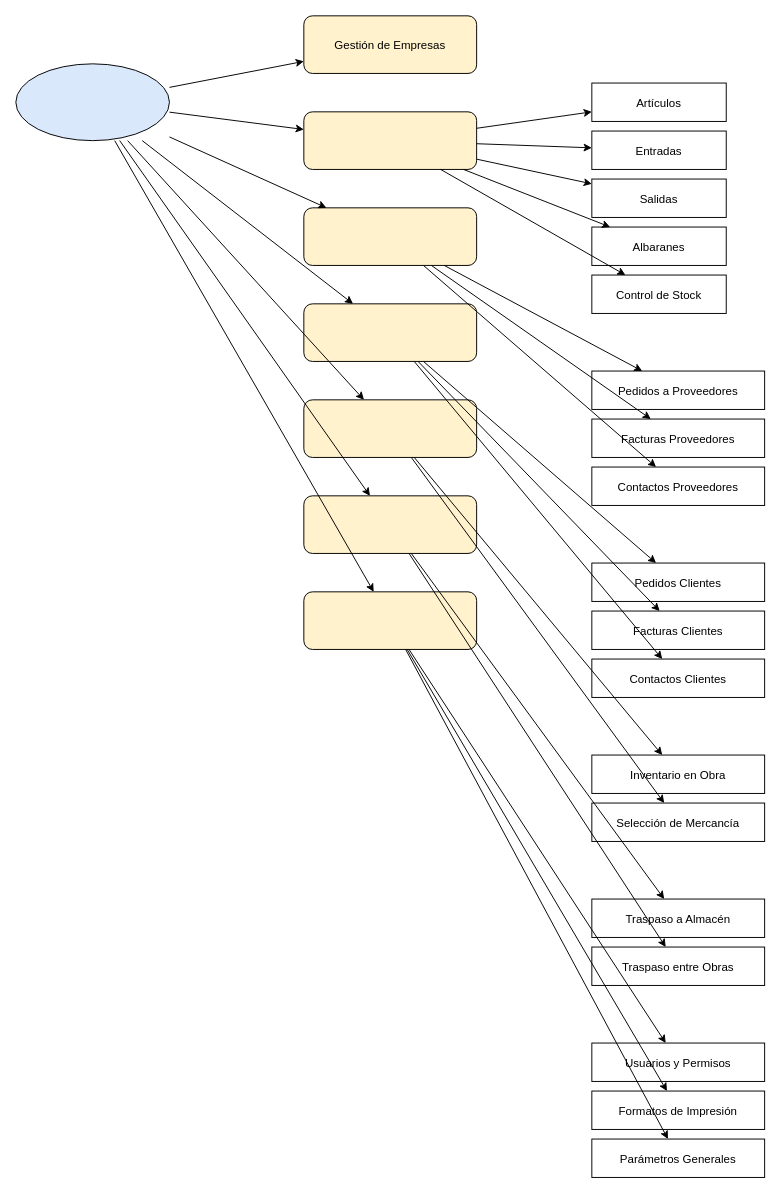
This 780x1193 diagram has some shape labels left out. The shapes that lost their labels are listed below. From the top down, each one's box as (x1, y1, x2, y2) in pixels, then its label:
(15, 63, 169, 141): Inicio / Dashboard
(303, 111, 477, 169): Gestión de Inventario
(303, 207, 477, 265): Gestión de Proveedores
(303, 303, 477, 361): Gestión de Clientes
(303, 399, 477, 457): Gestión de Obras
(303, 495, 477, 553): Gestión de Traspasos
(303, 591, 477, 649): Configuración
